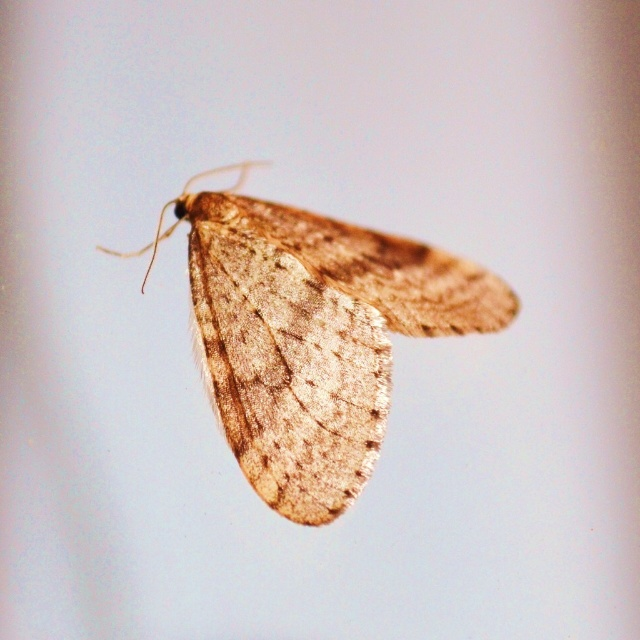Butterfly: (106, 150, 514, 511)
